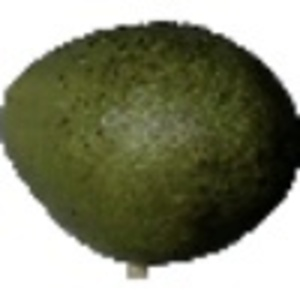abacate: (1, 16, 296, 267)
